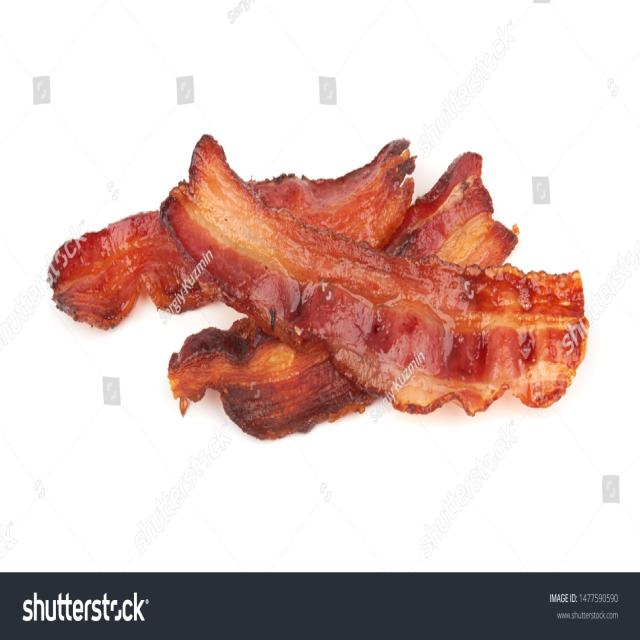bacon: (46, 126, 599, 458)
